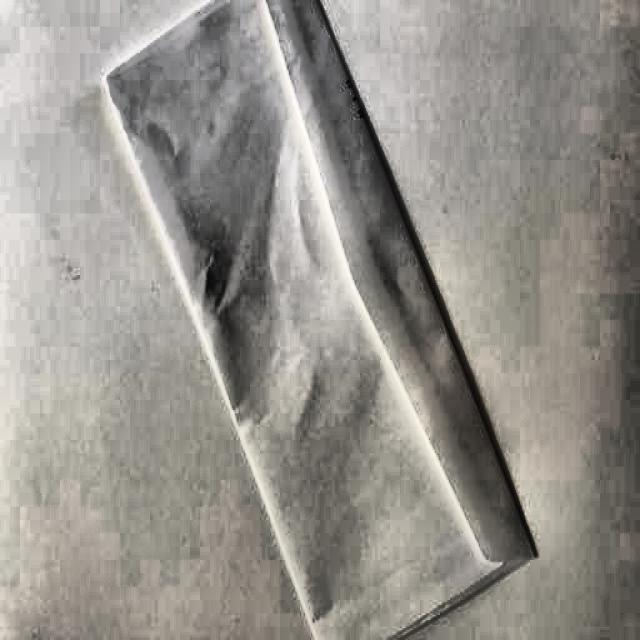paper: (103, 8, 552, 612)
